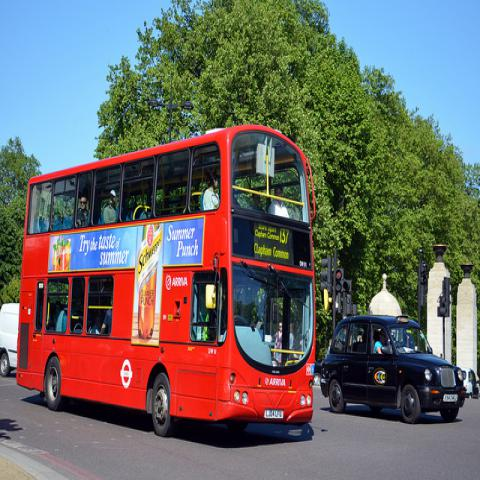bus: (16, 125, 314, 434)
car: (318, 313, 465, 423), (1, 301, 21, 376)
truck: (0, 304, 21, 379)
